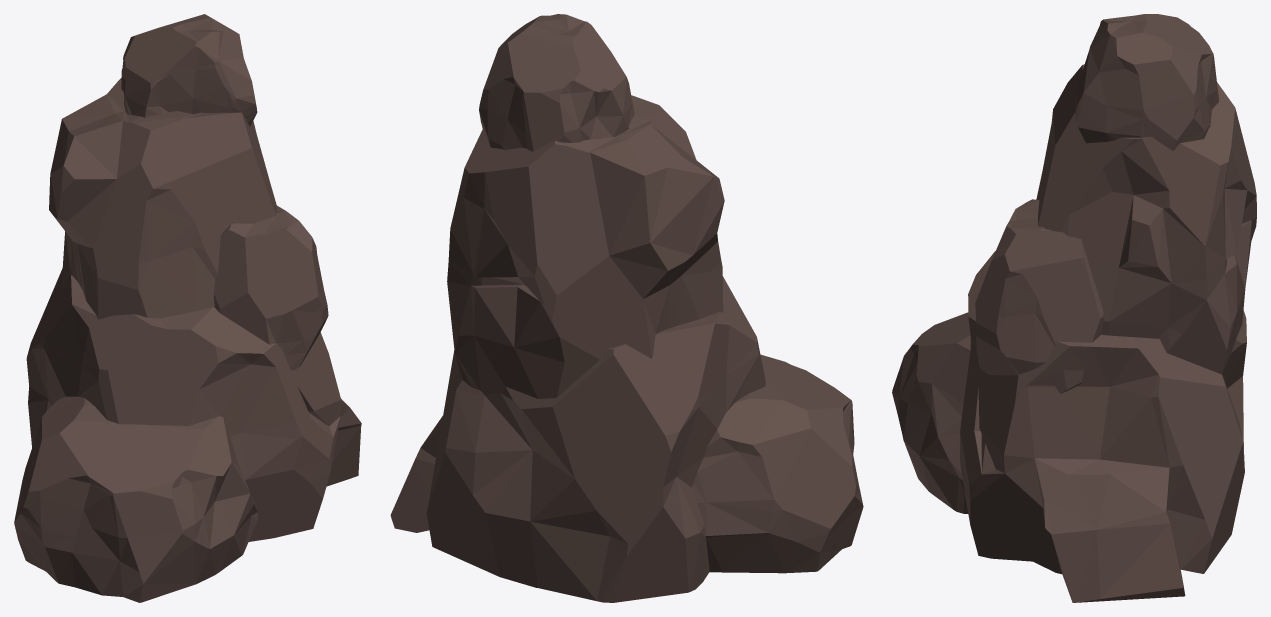
Rendered from Rock 10.fbx.
The picture shows the model from 3 angles, left to right: view 1: azimuth 30°, elevation 25°; view 2: azimuth 150°, elevation 25°; view 3: azimuth 270°, elevation 25°; orthographic projection. The views are drawn at different scales.
Visible parts, largest first — view 1: Cliff shard 10; view 2: Cliff shard 10; view 3: Cliff shard 10.
Boxes of the visible parts, left/top/right/bottom form: Cliff shard 10: left=14, top=14, right=361, bottom=602; Cliff shard 10: left=390, top=14, right=863, bottom=602; Cliff shard 10: left=892, top=14, right=1256, bottom=602.
Bounding box in the file's own units: 2.04 × 2.54 × 1.65.
